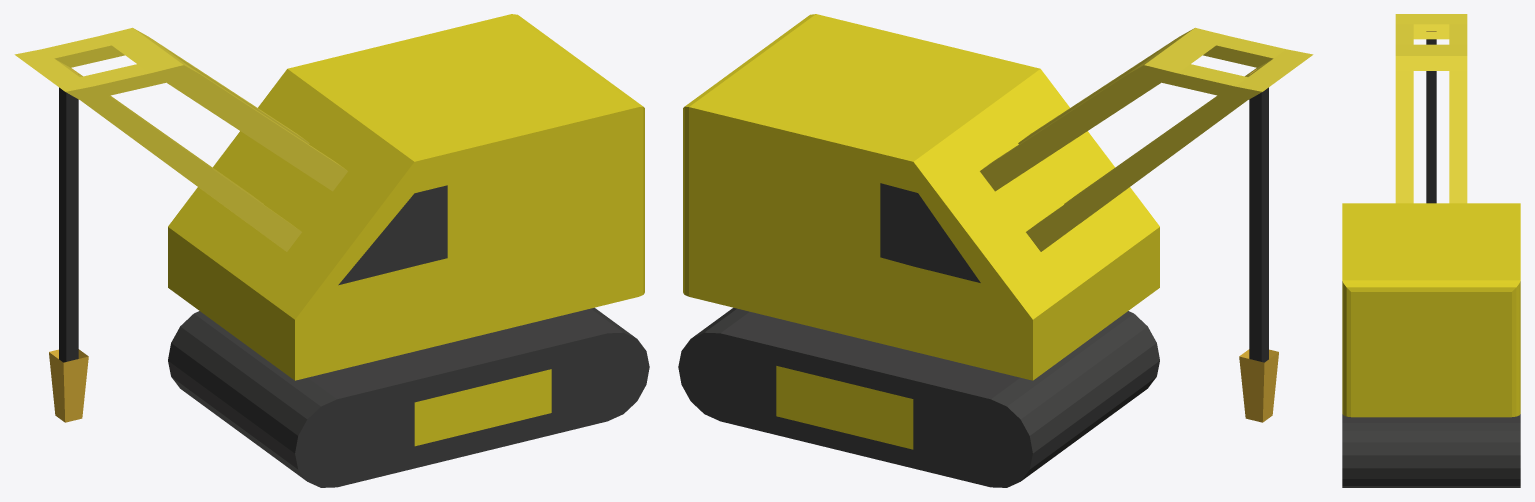
Rendered from Crane.fbx.
The picture shows the model from 3 angles, left to right: view 1: azimuth 30°, elevation 25°; view 2: azimuth 150°, elevation 25°; view 3: azimuth 270°, elevation 25°; orthographic projection. The views are drawn at different scales.
Parts seen in each view (by area): view 1: Cube, Cube.001, Cube.002; view 2: Cube, Cube.001, Cube.002; view 3: Cube, Cube.001, Cube.002.
Boxes of the visible parts, left/top/right/bottom form: Cube: left=168, top=14, right=649, bottom=487; Cube.001: left=14, top=27, right=347, bottom=251; Cube.002: left=49, top=69, right=88, bottom=422; Cube: left=678, top=14, right=1159, bottom=487; Cube.001: left=980, top=27, right=1313, bottom=251; Cube.002: left=1239, top=69, right=1278, bottom=422; Cube: left=1342, top=203, right=1520, bottom=487; Cube.001: left=1395, top=14, right=1467, bottom=203; Cube.002: left=1426, top=31, right=1436, bottom=203.
Bounding box in the file's own units: 308 × 124 × 229.
